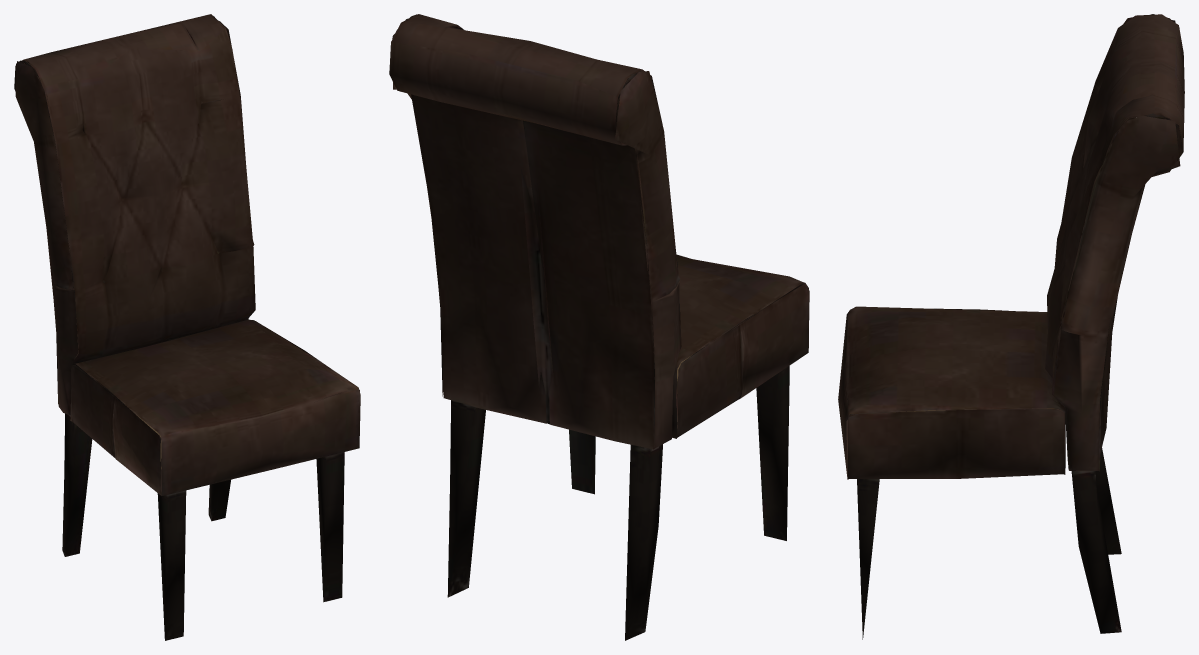
The model's file is dchair.glb.
The picture shows the model from 3 angles, left to right: view 1: azimuth 30°, elevation 25°; view 2: azimuth 150°, elevation 25°; view 3: azimuth 270°, elevation 25°; orthographic projection. The views are drawn at different scales.
Parts seen in each view (by area): view 1: lo; view 2: lo; view 3: lo.
Boxes of the visible parts, x1,y1,x2,y2 form: lo: (14,14,360,640); lo: (389,14,809,640); lo: (838,14,1184,639).
Bounding box in the file's own units: 0.4374 × 0.9784 × 0.5792.
Materials: 1 (1 with a texture image).
